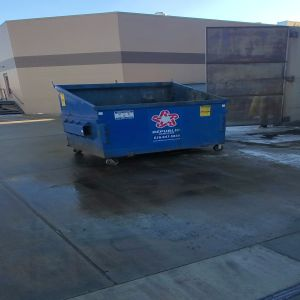Dumpster: (50, 77, 230, 167)
